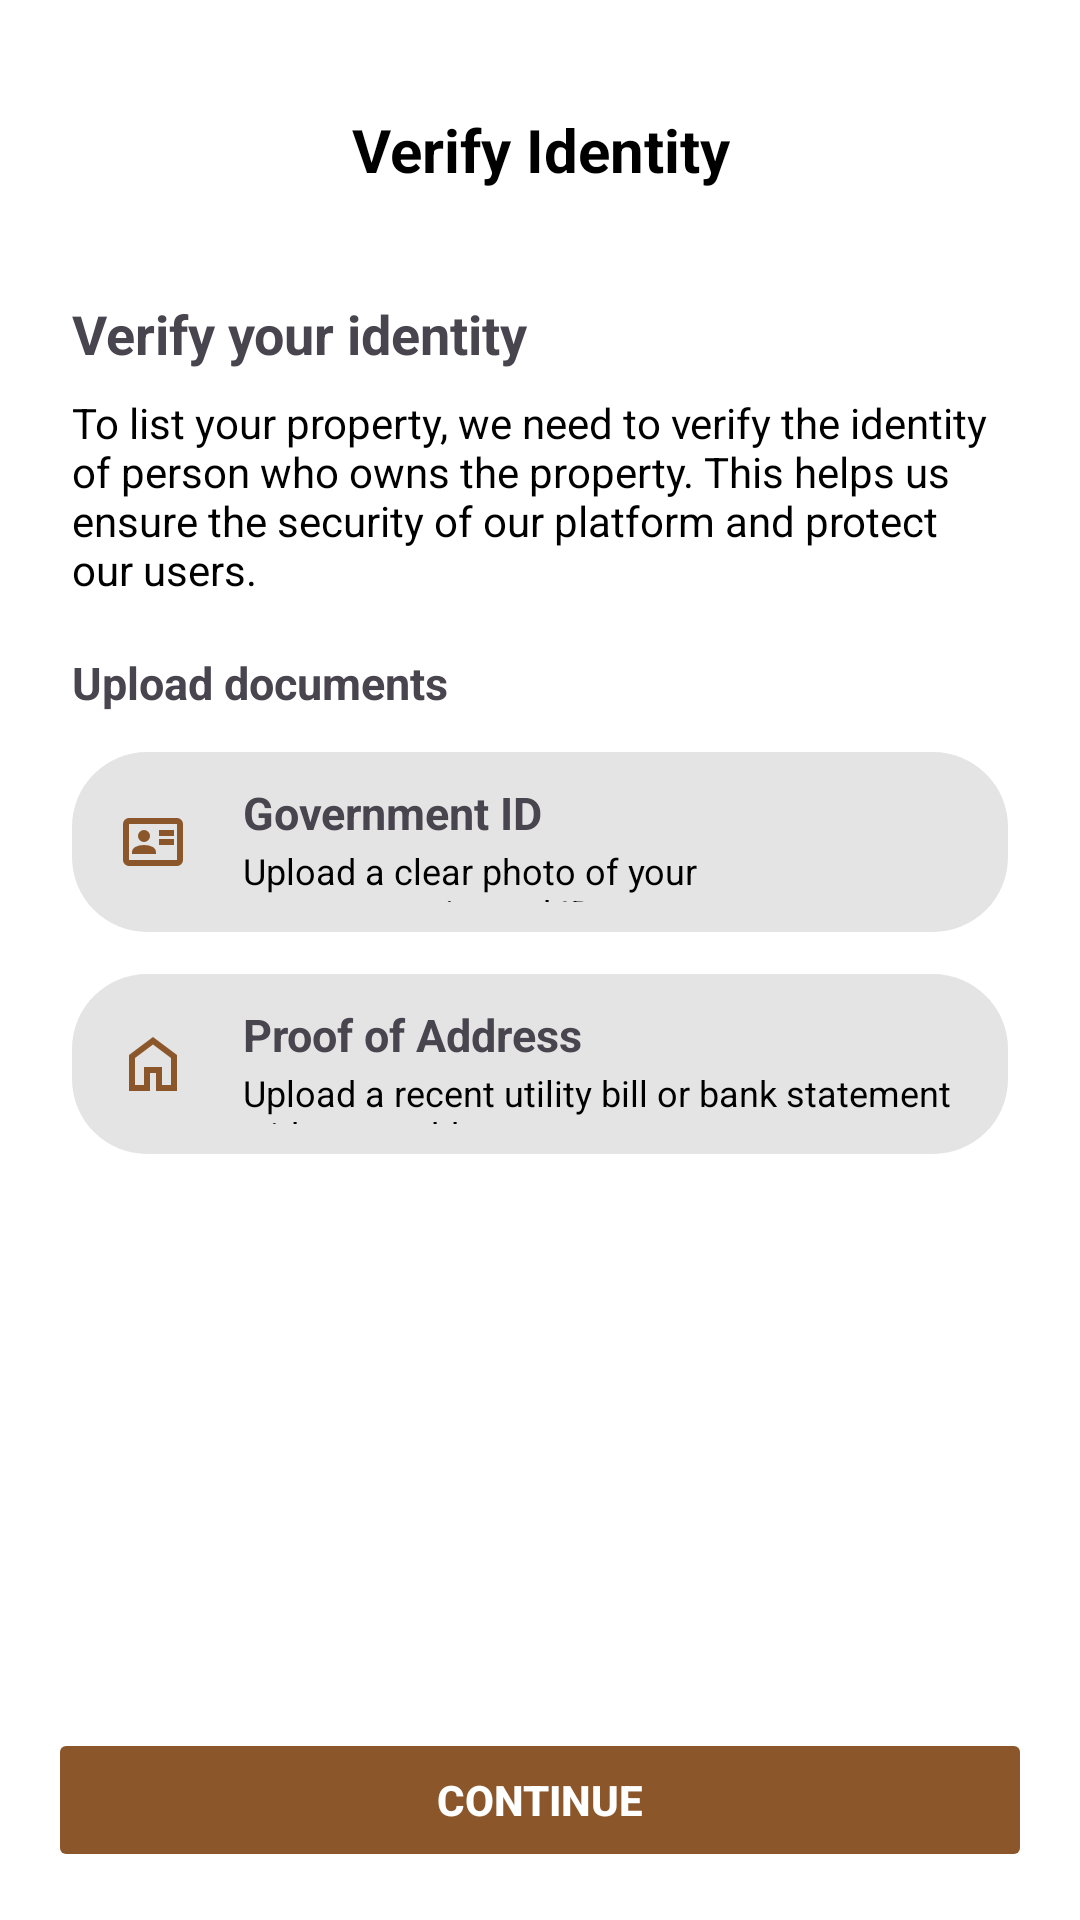

Icons on this 1080 x 1920 Android screen, each with its box as BBox(x1, y1, x2, y2):
govt id: BBox(123, 818, 183, 866)
